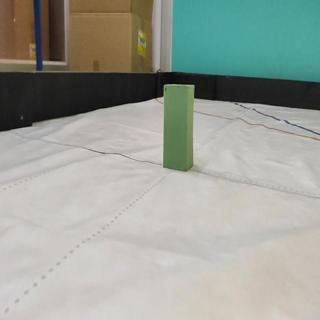greenbox: (163, 83, 193, 172)
